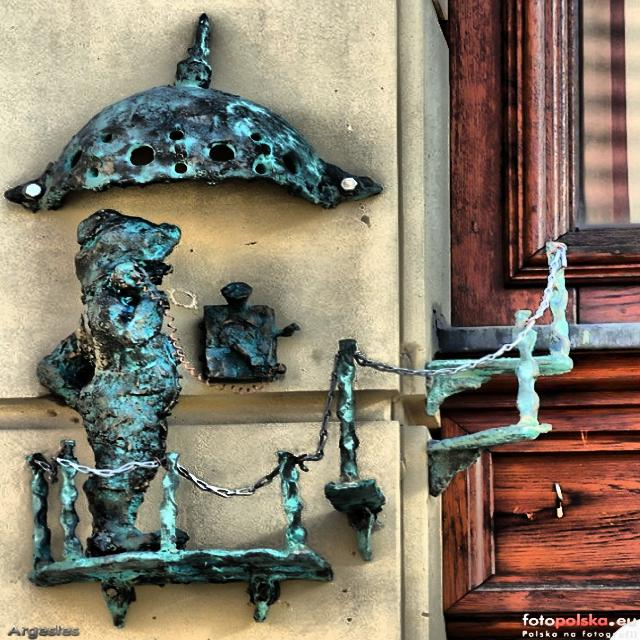Dryndek: (29, 210, 331, 628), (189, 282, 274, 386)
